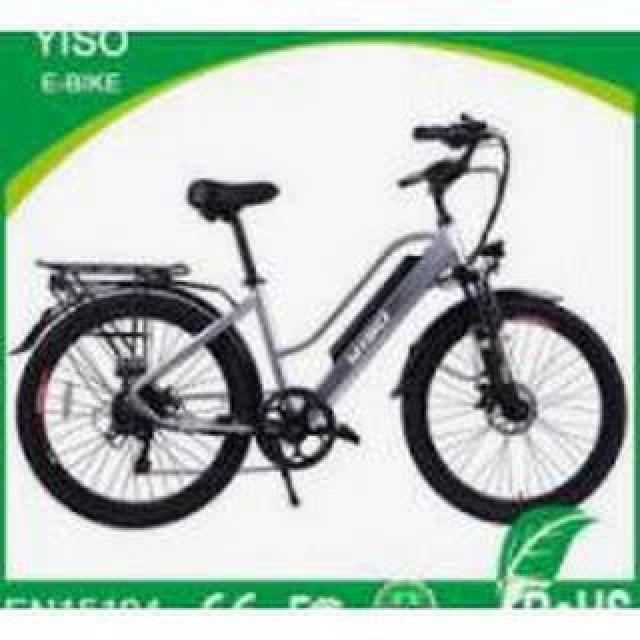Person: (14, 106, 632, 532)
